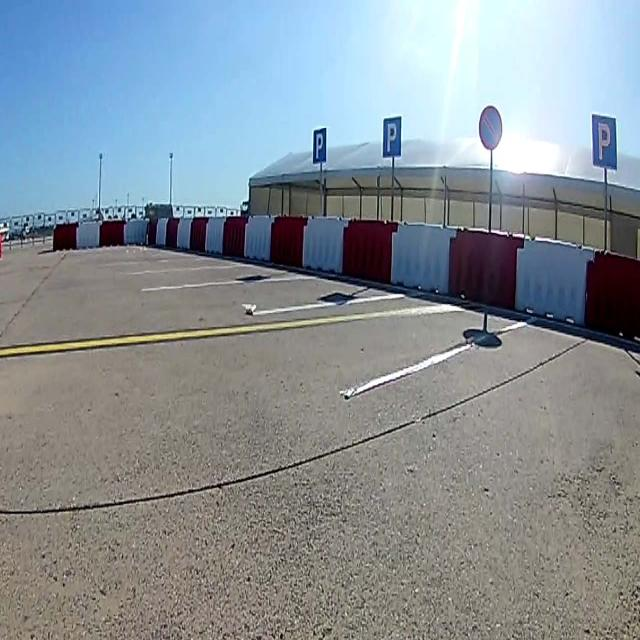park: (592, 112, 618, 168), (383, 116, 401, 156), (314, 129, 326, 162)
parkyasak: (479, 107, 503, 148)
